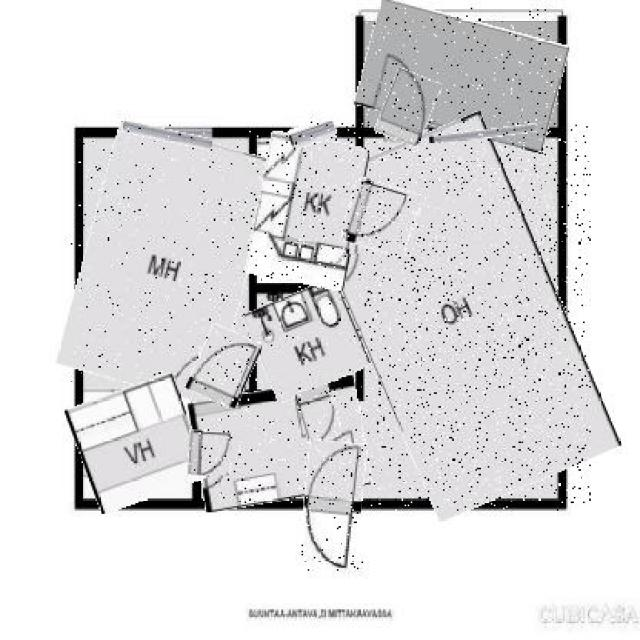door: (300, 440, 363, 571), (344, 180, 418, 254), (191, 328, 257, 404), (378, 70, 437, 144), (298, 386, 338, 442), (189, 431, 231, 475)
window: (121, 124, 212, 144), (429, 126, 537, 140), (289, 120, 337, 146)
zone: (331, 123, 591, 511), (69, 129, 262, 397), (360, 8, 563, 142), (192, 383, 368, 506), (251, 136, 363, 286), (72, 380, 202, 506), (249, 284, 365, 396)
